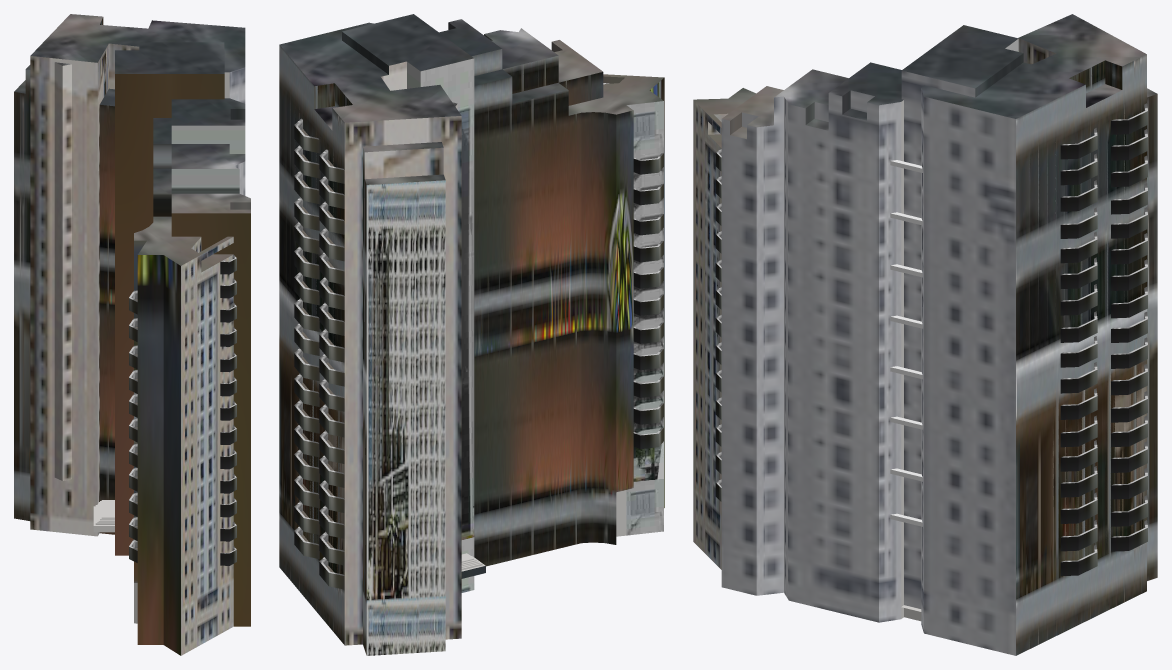
File: Edificio+Terrazas+de+Granada+(Cali9.fbx
3 views of the same model, side by side, from view 1: azimuth 30°, elevation 25°; view 2: azimuth 150°, elevation 25°; view 3: azimuth 270°, elevation 25° (orthographic). The views are drawn at different scales.
Parts seen in each view (by area): view 1: Model; view 2: Model; view 3: Model.
Part boxes in pixels (x1,y1,x2,y2): Model: [14, 14, 250, 655]; Model: [279, 14, 664, 655]; Model: [693, 14, 1157, 655].
Bounding box in the file's own units: 35.31 × 70.66 × 54.46.
